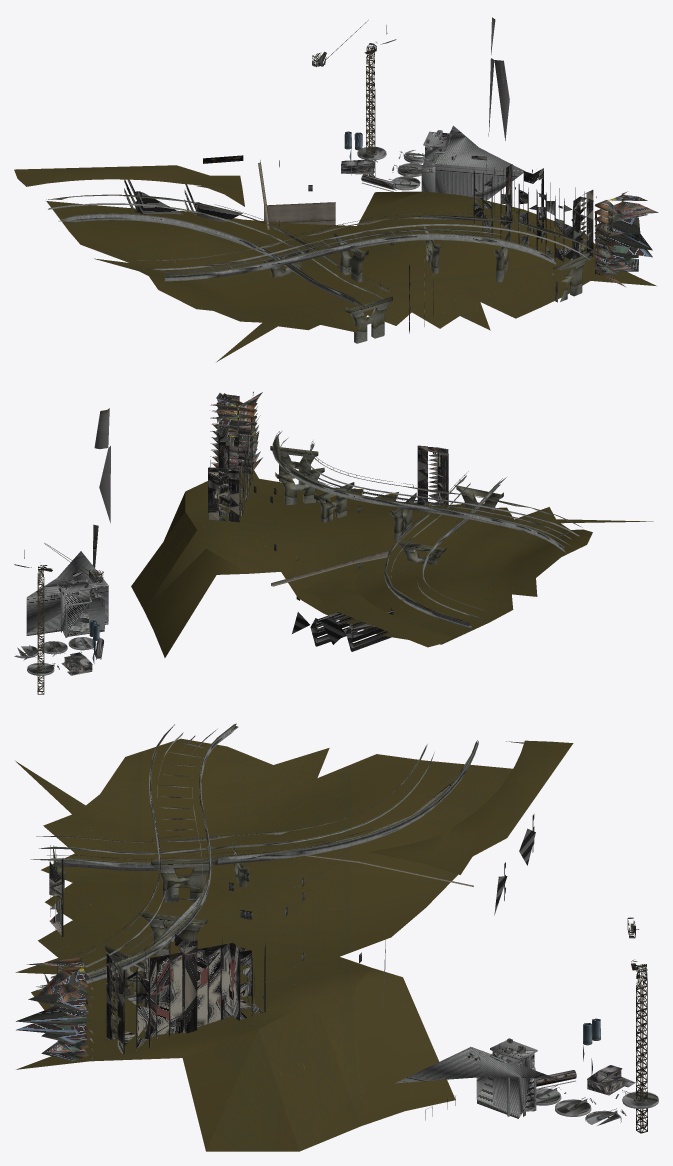
The model's file is world_camden_9_-4.gltf.
The picture shows the model from 3 angles, top to bottom: view 1: azimuth 30°, elevation 25°; view 2: azimuth 150°, elevation 25°; view 3: azimuth 270°, elevation 25°; orthographic projection. The views are drawn at different scales.
Bounding box in the file's own units: 279 × 132 × 269.
Materials: 26 (26 with a texture image).
